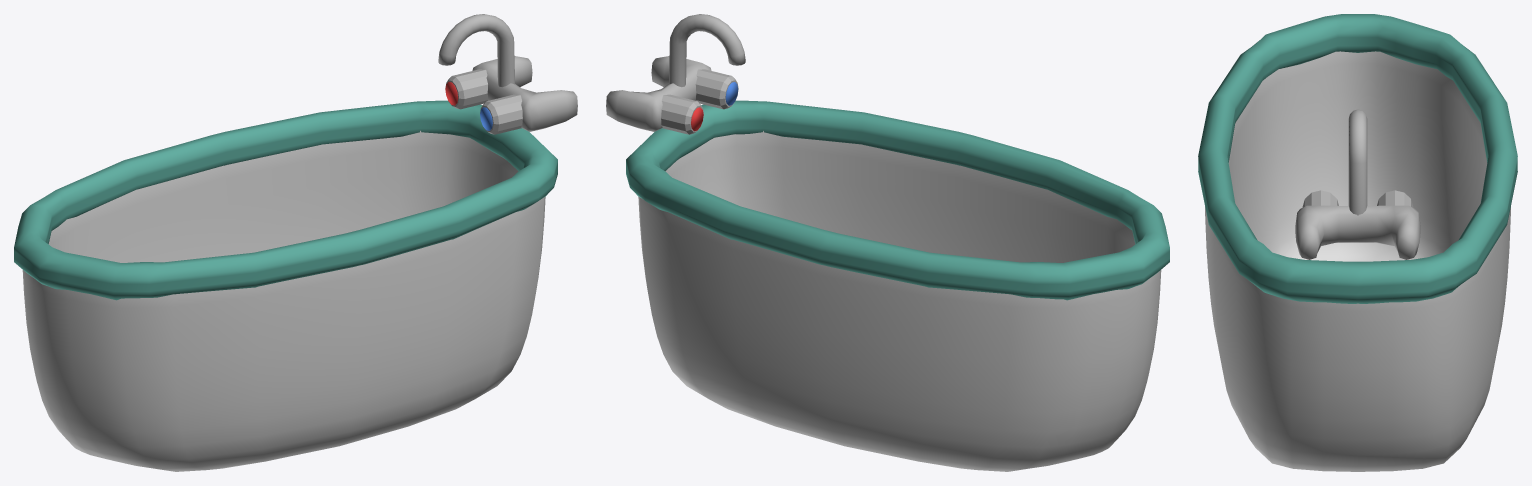
The model's file is Bathtub1.fbx.
The picture shows the model from 3 angles, left to right: view 1: azimuth 30°, elevation 25°; view 2: azimuth 150°, elevation 25°; view 3: azimuth 270°, elevation 25°; orthographic projection. The views are drawn at different scales.
Visible parts, largest first — view 1: Tube, TubeTop, Tap; view 2: Tube, TubeTop, Tap; view 3: Tube, TubeTop, Tap.
Part boxes in pixels (x1=…): Tube: x1=22, y1=130, x2=545, y2=471; TubeTop: x1=14, y1=100, x2=557, y2=300; Tap: x1=438, y1=14, x2=577, y2=134; Tube: x1=638, y1=131, x2=1161, y2=471; TubeTop: x1=626, y1=100, x2=1169, y2=300; Tap: x1=606, y1=14, x2=745, y2=134; Tube: x1=1205, y1=51, x2=1510, y2=471; TubeTop: x1=1198, y1=14, x2=1517, y2=303; Tap: x1=1295, y1=109, x2=1420, y2=259.
Bounding box in the file's own units: 175 × 114 × 86.4.
